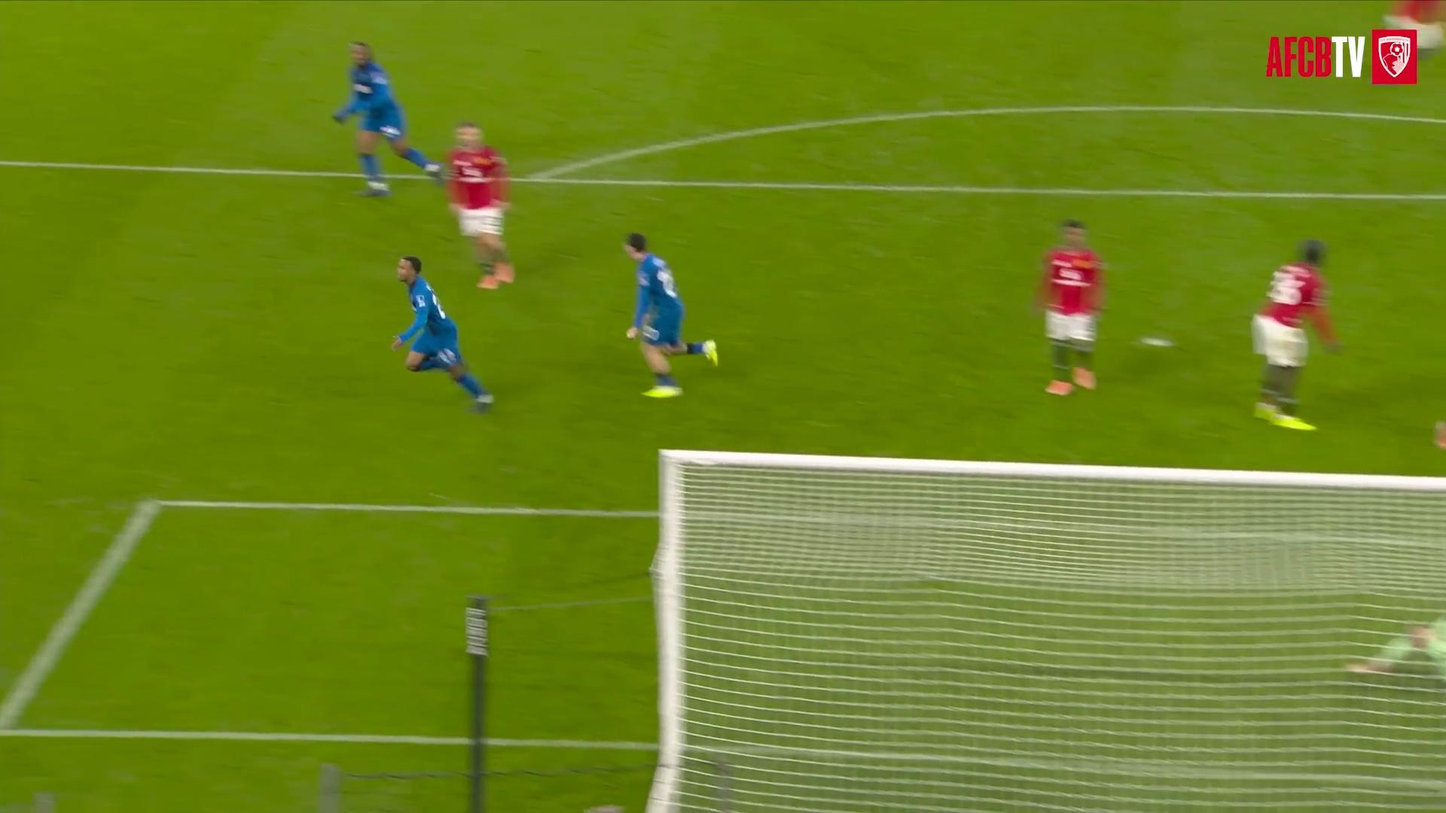player: (333, 43, 442, 196), (1252, 241, 1338, 430), (392, 256, 493, 411), (624, 233, 718, 397), (1036, 221, 1103, 394), (448, 122, 514, 288), (1348, 619, 1445, 678), (1385, 0, 1442, 53)
